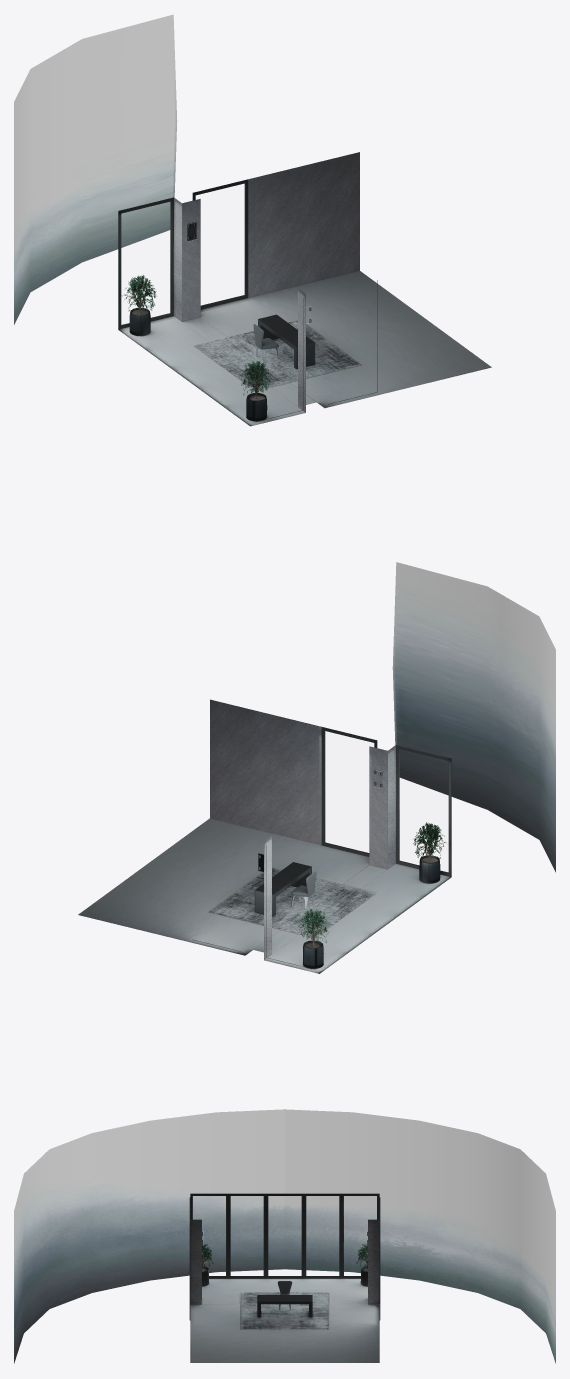
Rendered from office.glb.
3 views of the same model, one above another, from view 1: azimuth 30°, elevation 25°; view 2: azimuth 150°, elevation 25°; view 3: azimuth 270°, elevation 25° (orthographic). The views are drawn at different scales.
Visible parts, largest first — view 1: Minimalistic Modern Office_Structure_0, Minimalistic Modern Office_Background_0, Carpet_Carpet_0, Minimalistic Modern Office_Plants_0, Minimalistic Modern Office_Table_0; view 2: Minimalistic Modern Office_Structure_0, Minimalistic Modern Office_Background_0, Carpet_Carpet_0, Minimalistic Modern Office_Plants_0, Minimalistic Modern Office_Table_0; view 3: Minimalistic Modern Office_Background_0, Minimalistic Modern Office_Structure_0, Carpet_Carpet_0, Minimalistic Modern Office_Table_0, Minimalistic Modern Office_Plants_0.
Part boxes in pixels (x1=…): Minimalistic Modern Office_Structure_0: x1=118, y1=152, x2=491, y2=426; Minimalistic Modern Office_Background_0: x1=14, y1=14, x2=177, y2=324; Carpet_Carpet_0: x1=194, y1=320, x2=360, y2=389; Minimalistic Modern Office_Plants_0: x1=121, y1=275, x2=271, y2=421; Minimalistic Modern Office_Table_0: x1=258, y1=314, x2=315, y2=369; Minimalistic Modern Office_Structure_0: x1=78, y1=699, x2=451, y2=973; Minimalistic Modern Office_Background_0: x1=392, y1=562, x2=555, y2=872; Carpet_Carpet_0: x1=209, y1=868, x2=376, y2=936; Minimalistic Modern Office_Plants_0: x1=297, y1=822, x2=446, y2=968; Minimalistic Modern Office_Table_0: x1=254, y1=862, x2=311, y2=916; Minimalistic Modern Office_Background_0: x1=14, y1=1109, x2=555, y2=1363; Minimalistic Modern Office_Structure_0: x1=189, y1=1193, x2=380, y2=1362; Carpet_Carpet_0: x1=241, y1=1292, x2=328, y2=1329; Minimalistic Modern Office_Table_0: x1=257, y1=1295, x2=312, y2=1317; Minimalistic Modern Office_Plants_0: x1=188, y1=1244, x2=381, y2=1286.
Size of the model in its own units: 13.11 by 8.11 by 24.91.
Materials: 9 (7 with a texture image).
